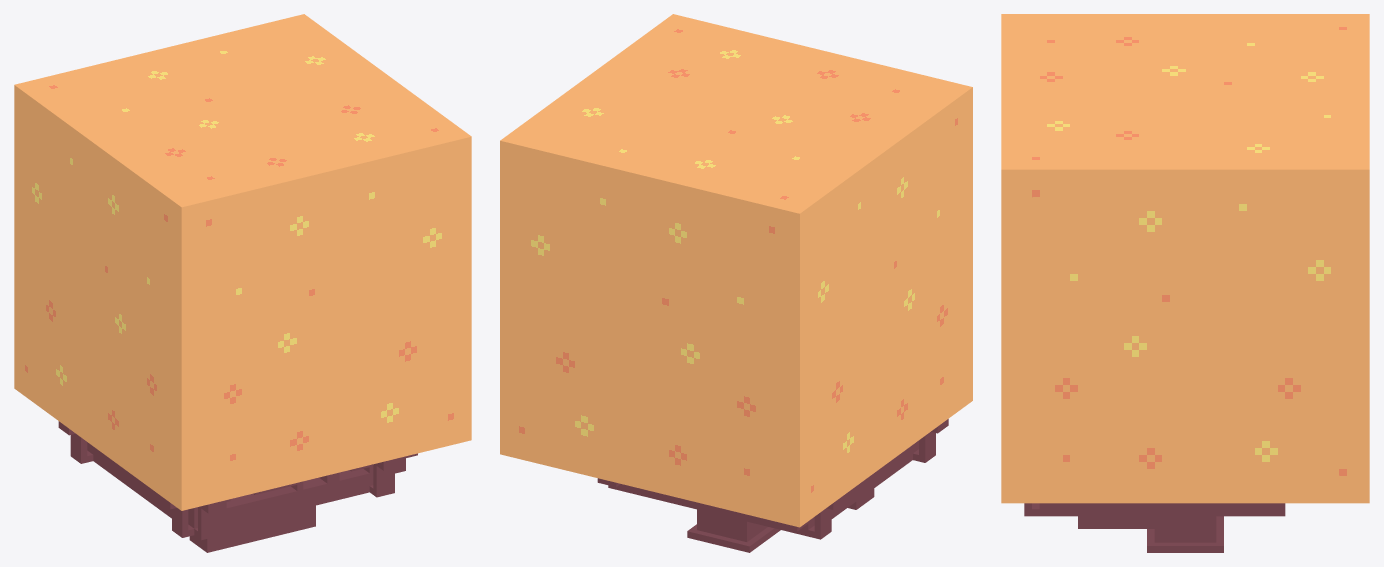
The model's file is m_tree_small_orange.glb.
3 renders of one model, left to right at view 1: azimuth 30°, elevation 25°; view 2: azimuth 150°, elevation 25°; view 3: azimuth 270°, elevation 25°, orthographic. The views are drawn at different scales.
Visible parts, largest first — view 1: tree_crown; view 2: tree_crown; view 3: tree_crown.
Boxes of the visible parts, left/top/right/bottom form: tree_crown: left=14, top=14, right=471, bottom=552; tree_crown: left=500, top=14, right=972, bottom=552; tree_crown: left=1001, top=14, right=1369, bottom=552.
Bounding box in the file's own units: 3 × 4 × 3.
1 material, 1 textured.
